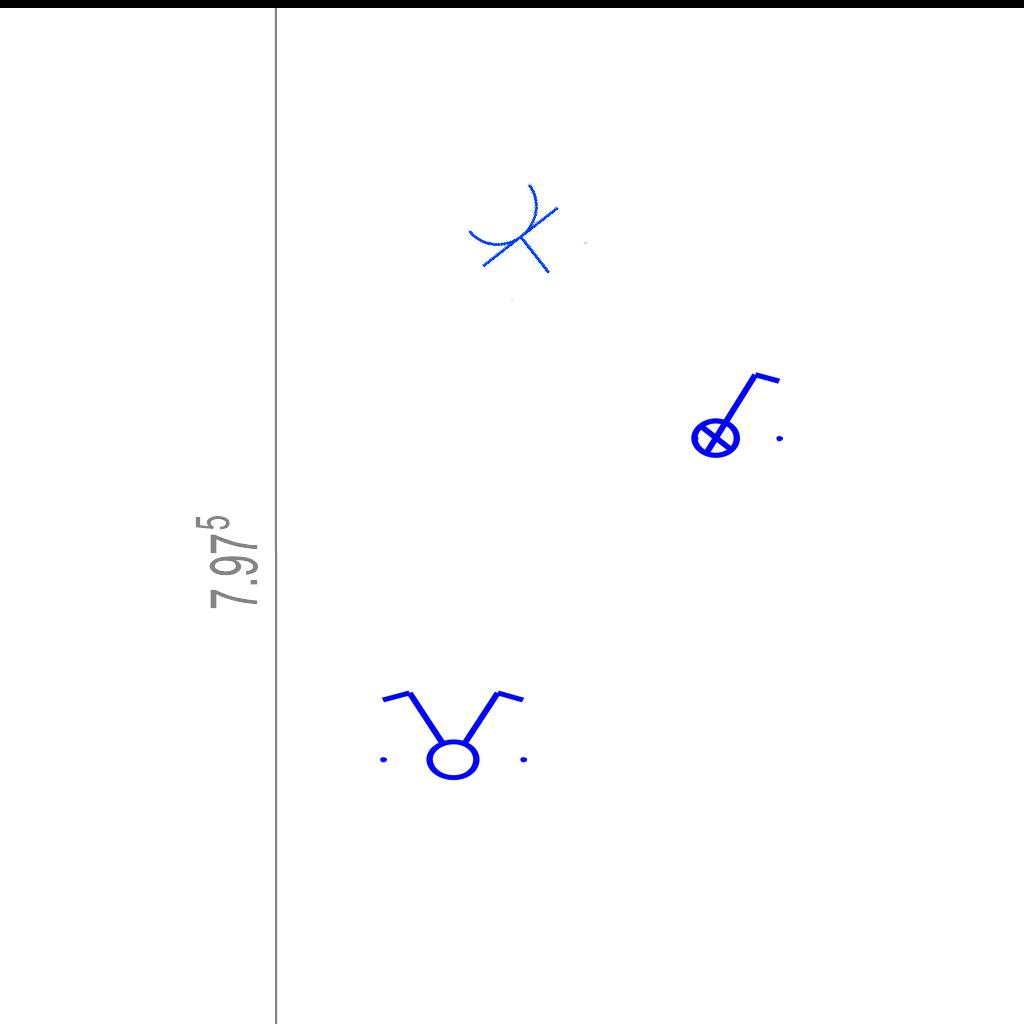Ausschalter_beleuchtet: (677, 364, 789, 460)
Schukosteckdose_einfach: (456, 173, 590, 304)
Serienschalter: (368, 686, 536, 782)
